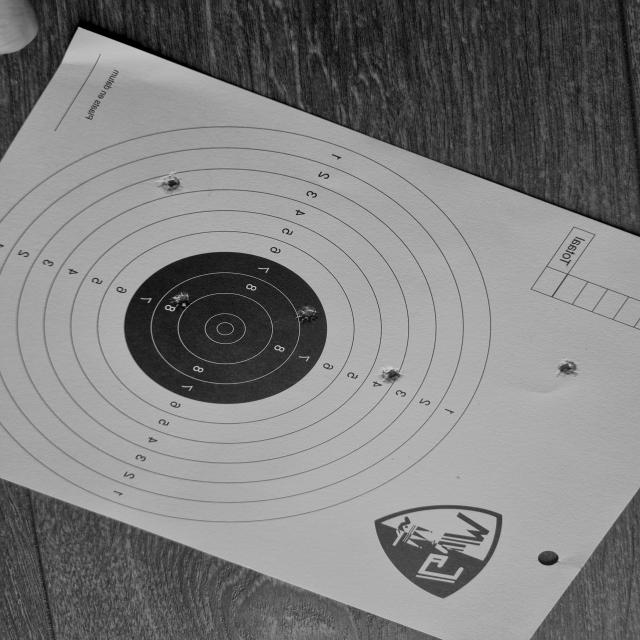0: (557, 360, 578, 378)
3: (157, 176, 182, 192)
4: (382, 368, 404, 382)
8: (171, 292, 192, 310), (295, 306, 317, 323)
Target: (0, 125, 491, 526)
black_contour: (125, 250, 328, 404)
